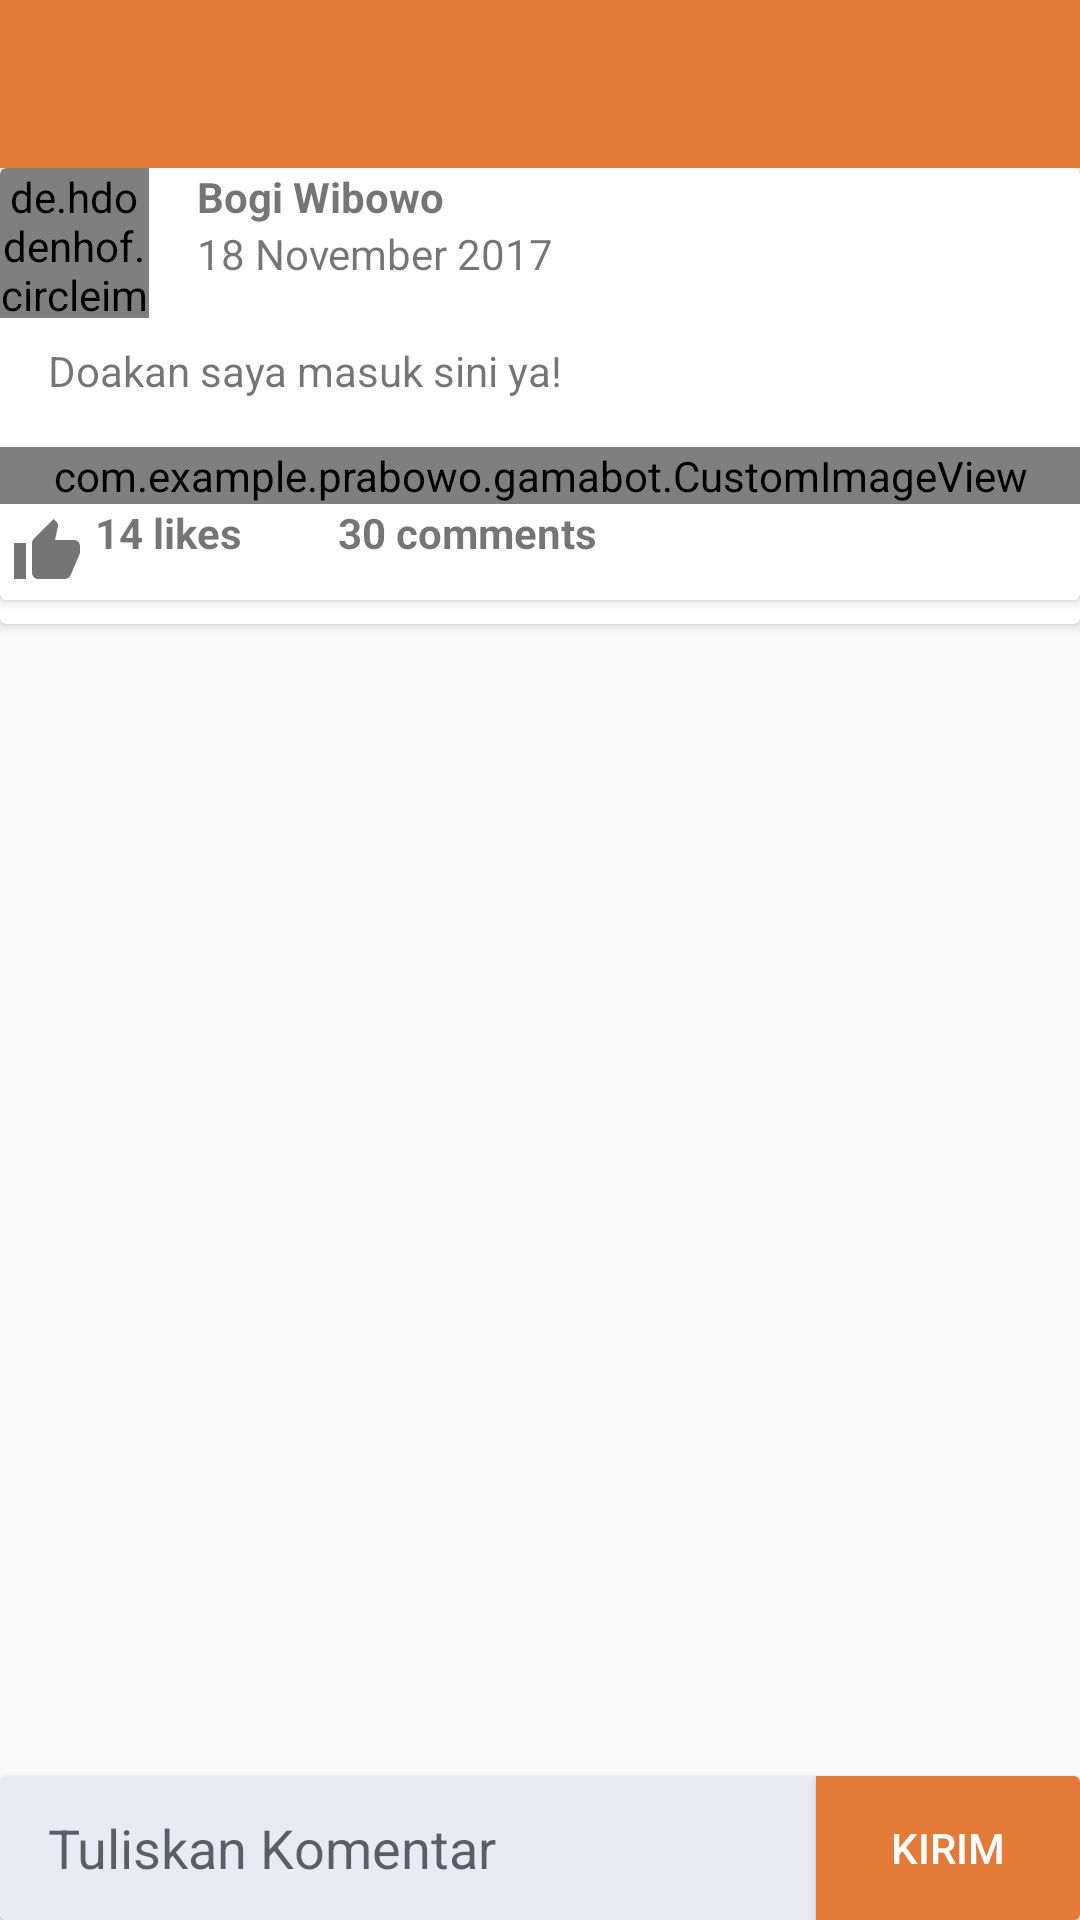

Screen size 1080*1920. Icon name, then its center in pixels as [x,y]:
thumb up: [47,549]
